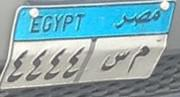4: (60, 42, 89, 82), (22, 49, 48, 85), (6, 47, 27, 85), (43, 47, 64, 82)
س: (99, 44, 132, 80)
م: (123, 42, 153, 73)
